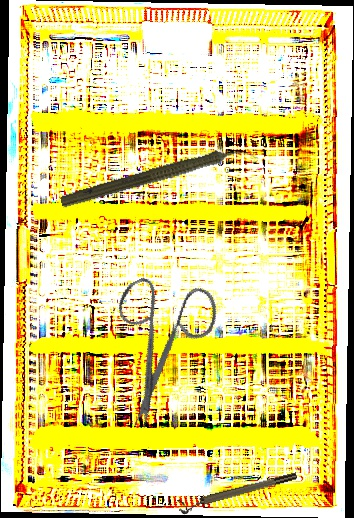Fixation Ring: (176, 470, 300, 516)
Handpiece: (58, 137, 260, 216)
Iris Scissors: (78, 254, 252, 433)
